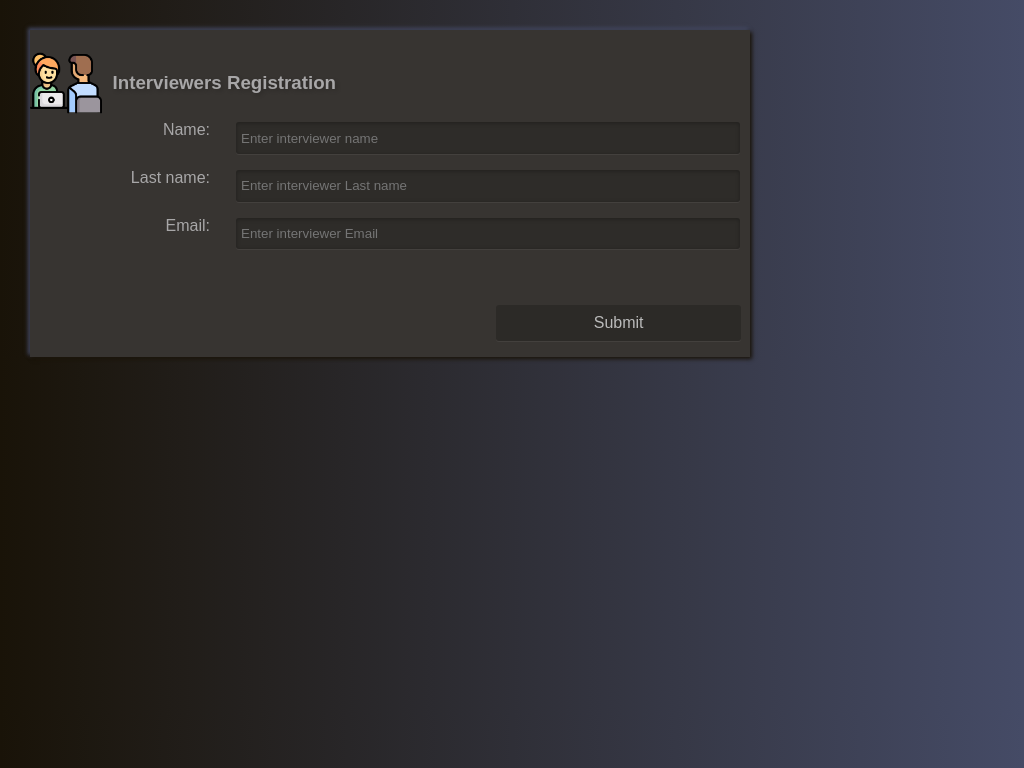
Test case: MyForm Component › should display success message on successful form submission
The width and height of the screenshot is (1024, 768).
Type "John" into the field labelled "Name:". click: point(488, 138)
box: [236,122,740,154]
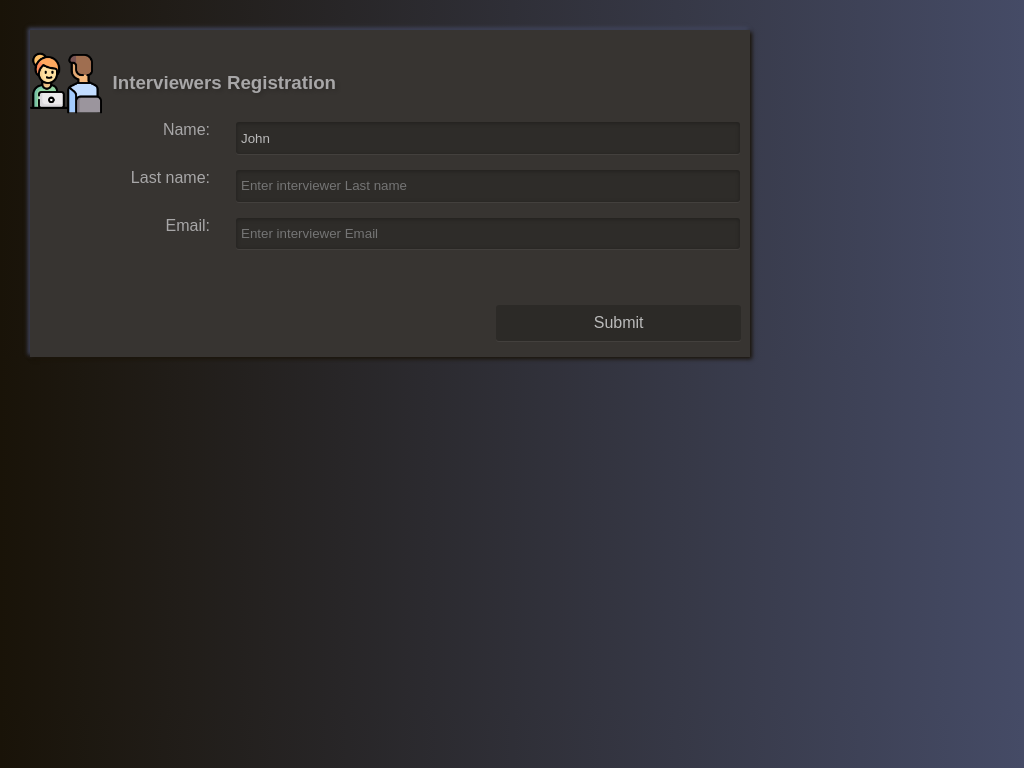
Type "Doe" into the field labelled "Last name:". click: point(488, 186)
box: [236,170,740,202]
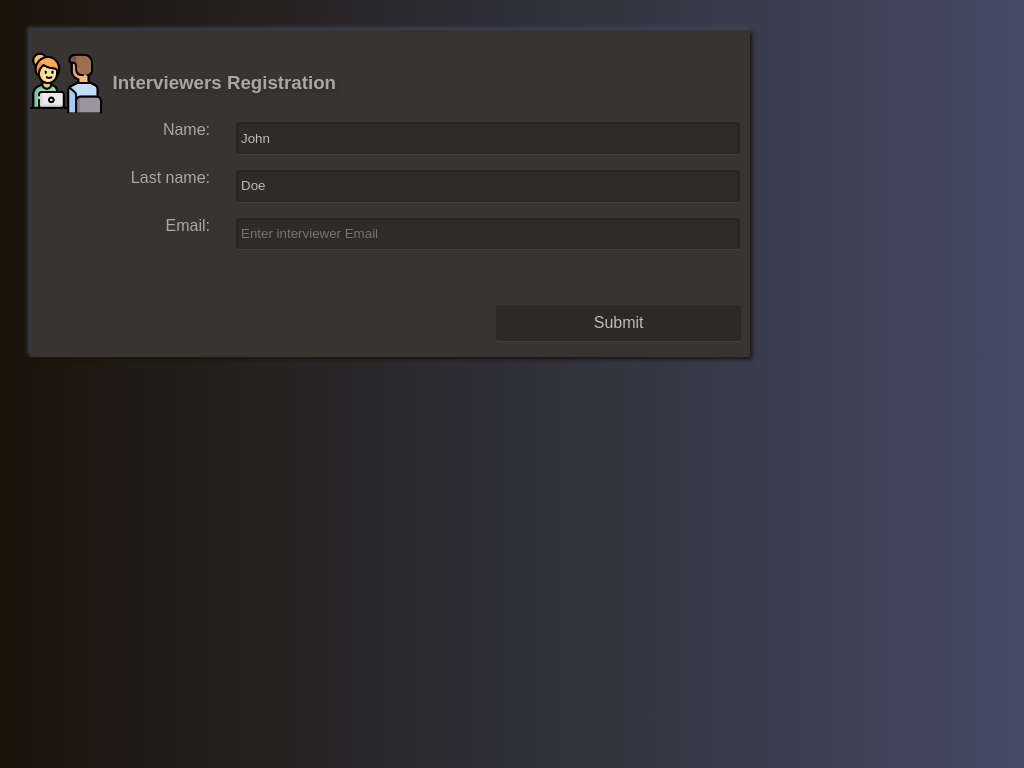
Type "john.doe@example.com" into the field labelled "Email:". click: point(488, 233)
box: [236,218,740,249]
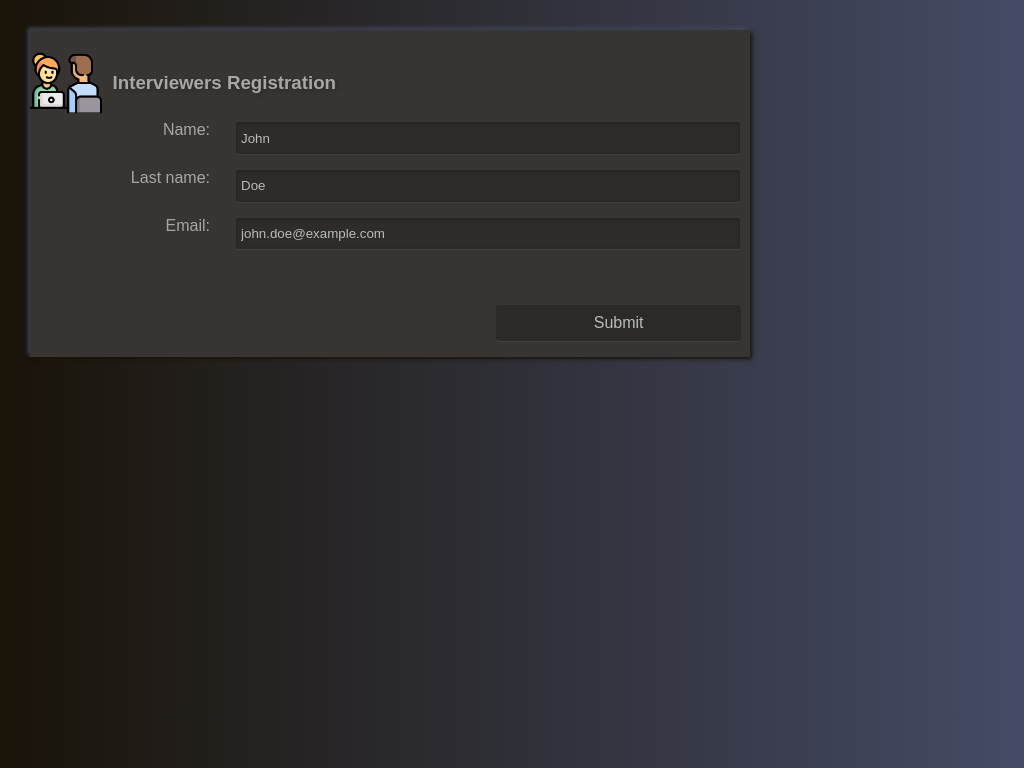
Click the button "Submit". click: point(619, 323)
box: [496,305,741,341]
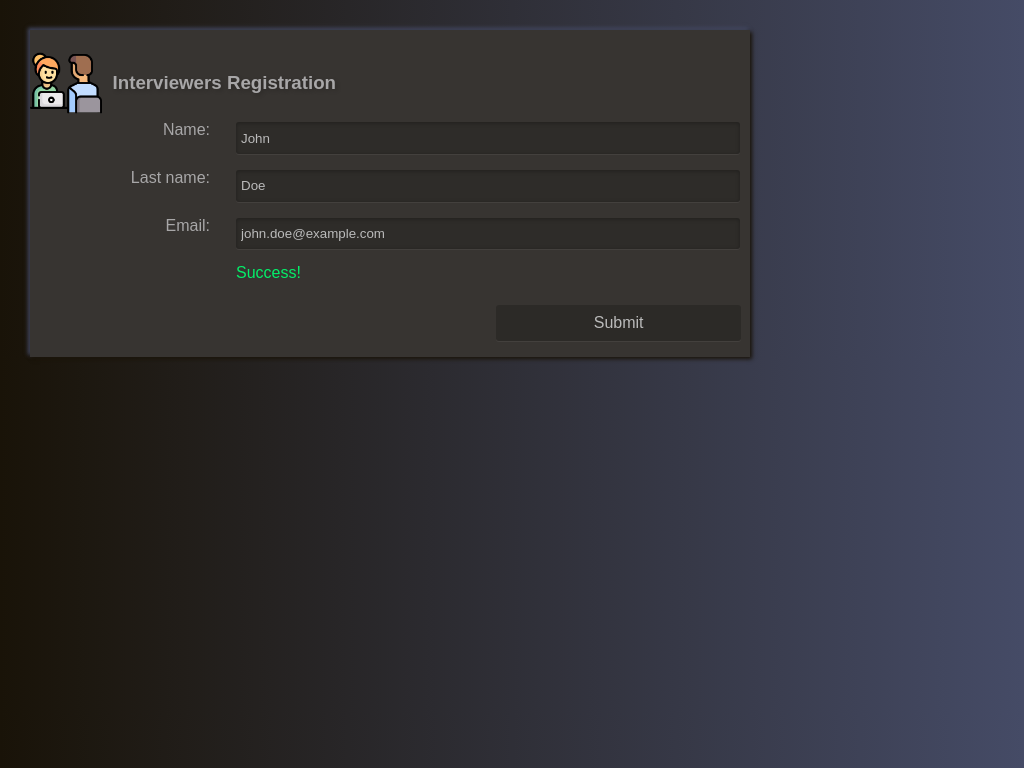
expect the text "Success!" is shown: met, box [236,265,301,281]
